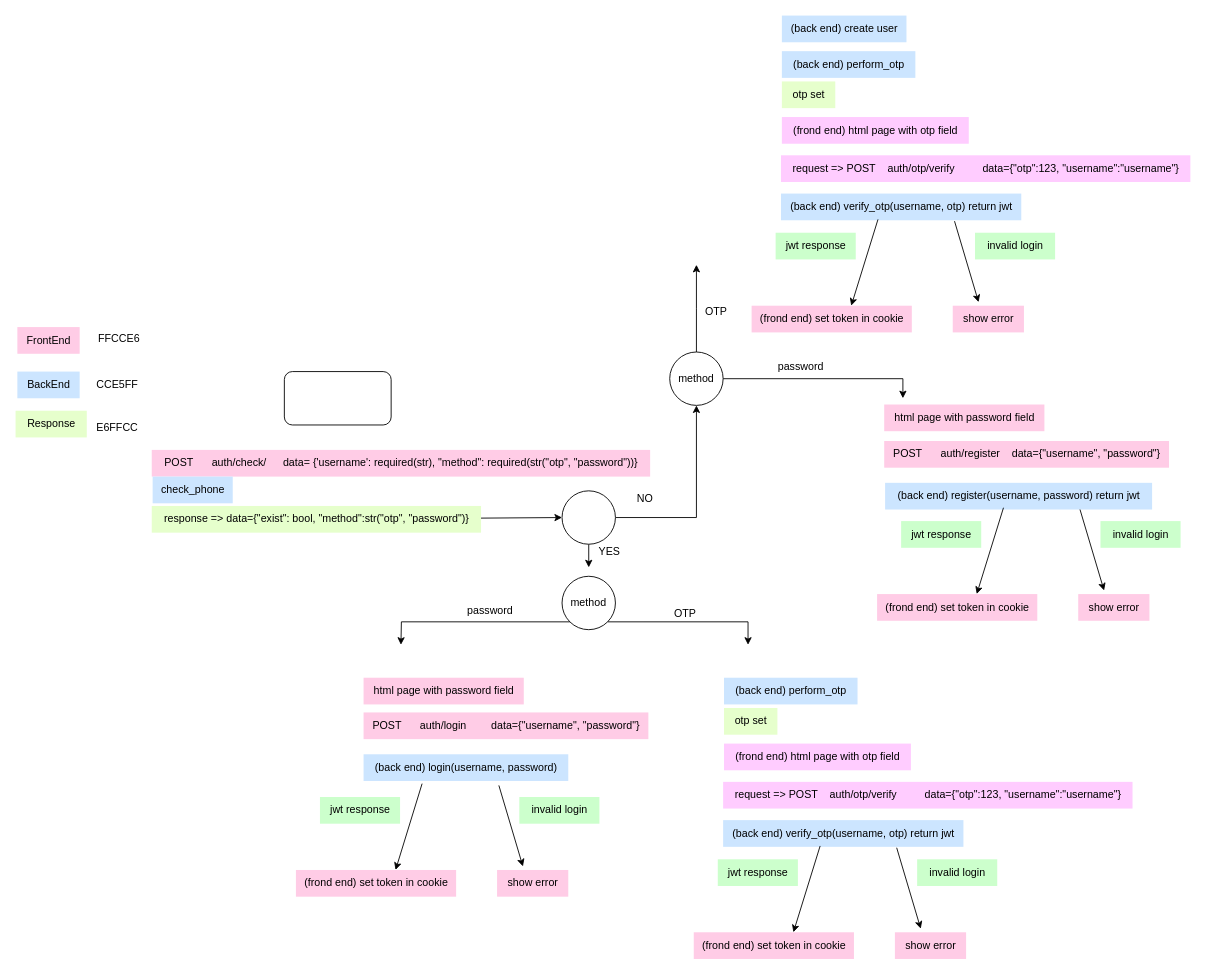
The diagram is 1205 pixels wide and 974 high, and some of its shapes have lost their labels. Each missing label, with the centre of its shape:
"Exist" belongs at [588,517].
"User" belongs at [337,398].
